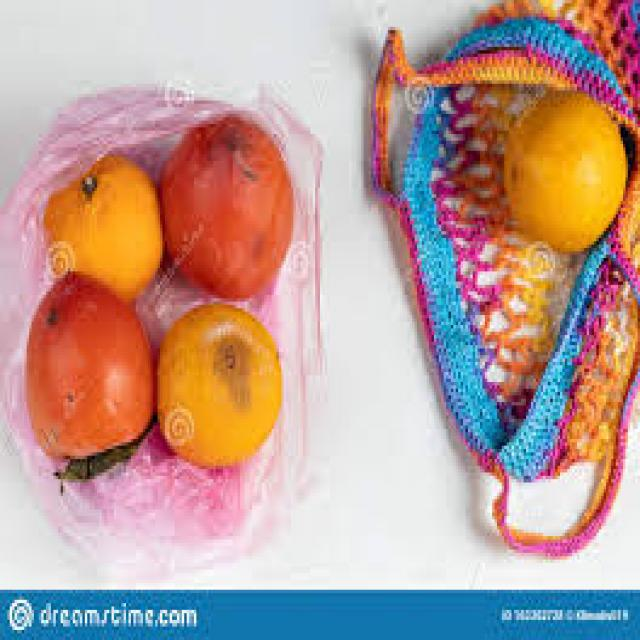organic waste: (157, 107, 291, 295), (22, 264, 153, 456), (153, 298, 279, 466), (502, 84, 625, 248), (39, 148, 160, 292), (49, 412, 152, 483)
